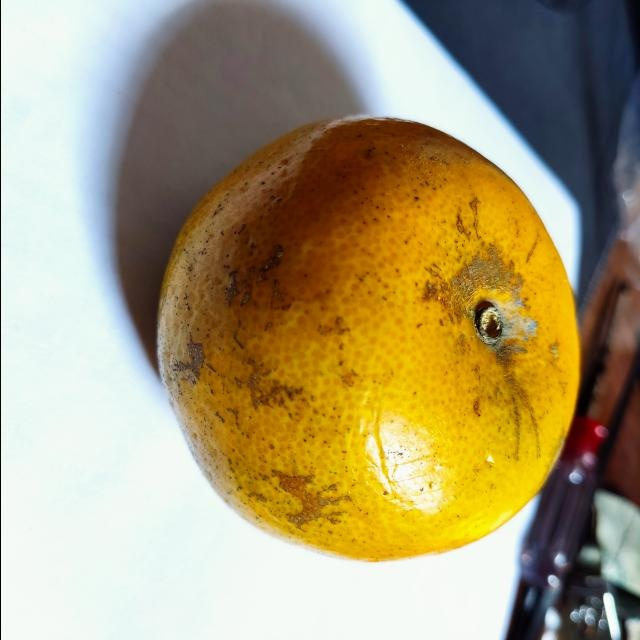agrume: (155, 113, 581, 563)
